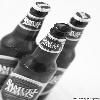beer: (3, 24, 73, 100)
